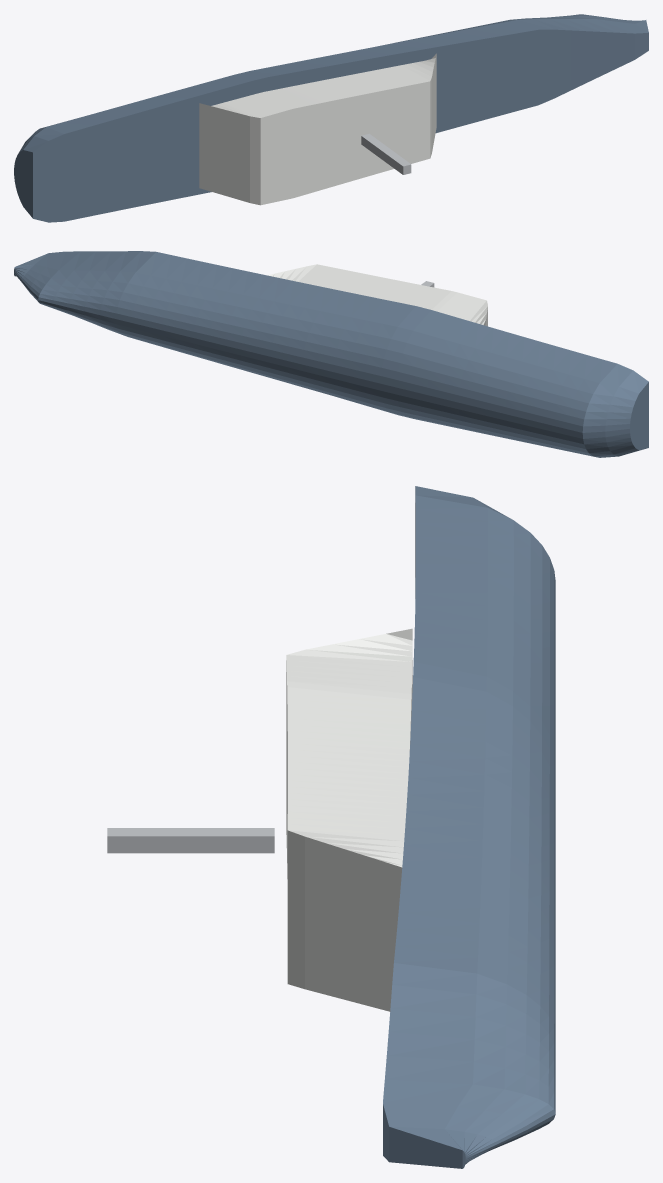
Rendered from loft-pilot-boat-slender.glb.
The picture shows the model from 3 angles, top to bottom: view 1: azimuth 30°, elevation 25°; view 2: azimuth 150°, elevation 25°; view 3: azimuth 270°, elevation 25°; orthographic projection. The views are drawn at different scales.
Visible parts, largest first — view 1: loft-pilot-boat-slender; view 2: loft-pilot-boat-slender; view 3: loft-pilot-boat-slender.
Boxes of the visible parts, box(x1,y1,x2,y2) form: loft-pilot-boat-slender: box(14, 14, 648, 222); loft-pilot-boat-slender: box(14, 251, 648, 457); loft-pilot-boat-slender: box(107, 486, 555, 1168).
Size of the model in its own units: 1.81 by 0.2861 by 0.5651.
